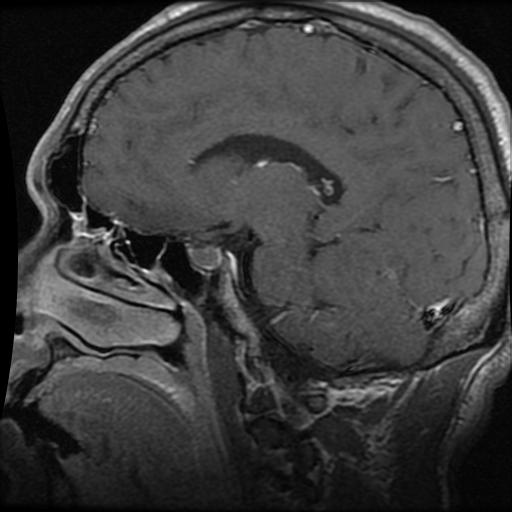Pituirity_tumour: (188, 244, 225, 270)
